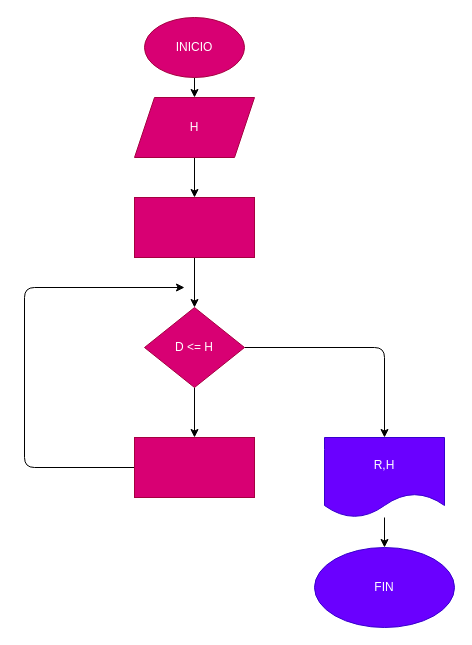
The diagram is 472 pixels wide and 645 high, and some of its shapes have lost their labels. Here are the shapes that lost their labels. From the top down, the centre of each, then its label:
[194,227]: R = 0 D = H/5
[194,467]: H = H-0.1*H R=R+1
